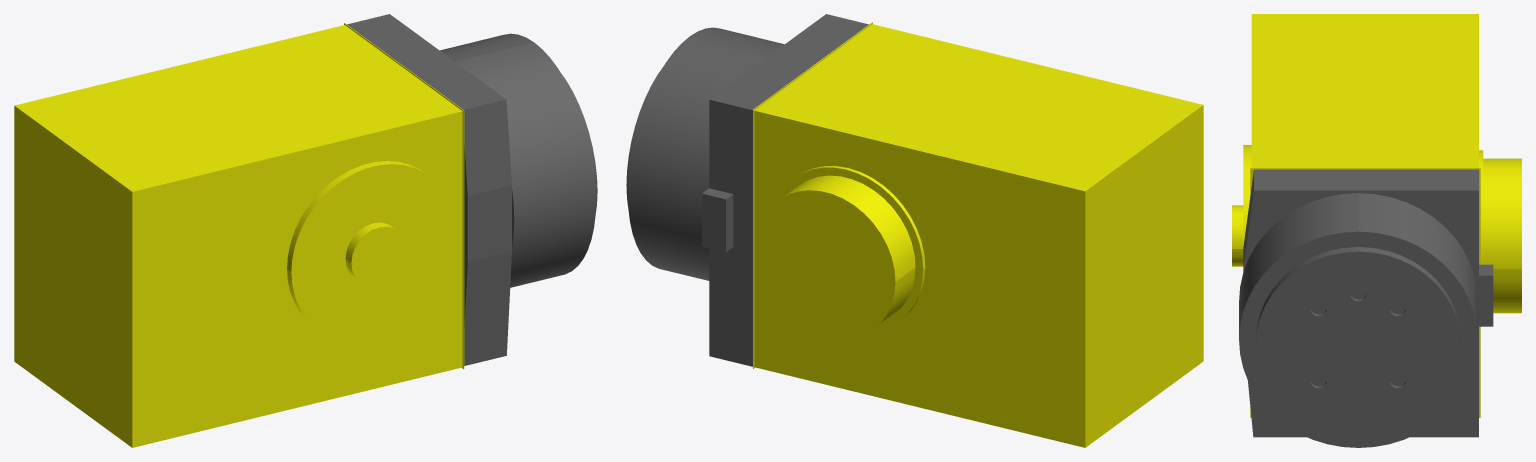
3 renders of one model, left to right at view 1: azimuth 30°, elevation 25°; view 2: azimuth 150°, elevation 25°; view 3: azimuth 270°, elevation 25°, orthographic. The views are drawn at different scales.
Visible parts, largest first — view 1: Mesh_0; view 2: Mesh_0; view 3: Mesh_0.
Part boxes in pixels (<box>): Mesh_0: <box>14,14,597,447</box>; Mesh_0: <box>626,14,1203,447</box>; Mesh_0: <box>1232,14,1521,447</box>.
Bounding box in the file's own units: 0.1853 × 0.1032 × 0.098.
